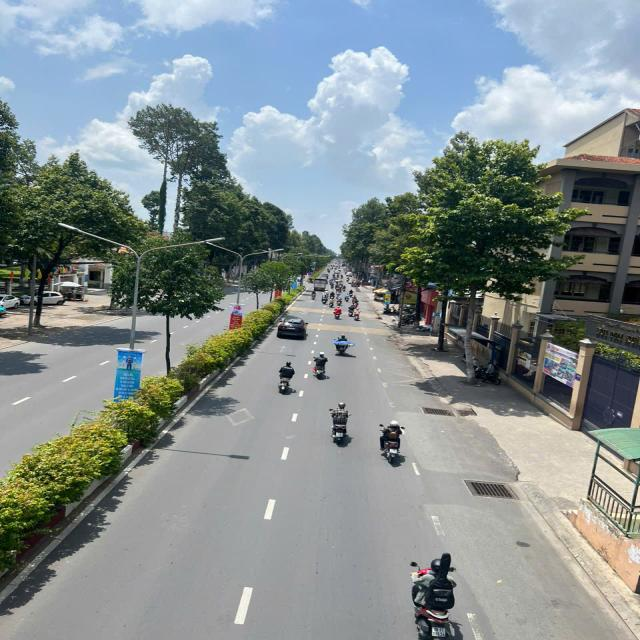Truck: (311, 274, 330, 294)
car: (273, 309, 314, 343)
motobyte: (402, 545, 465, 640), (374, 417, 411, 465), (326, 400, 355, 448), (273, 359, 300, 397), (308, 349, 332, 382), (330, 330, 356, 358), (330, 304, 344, 320)
